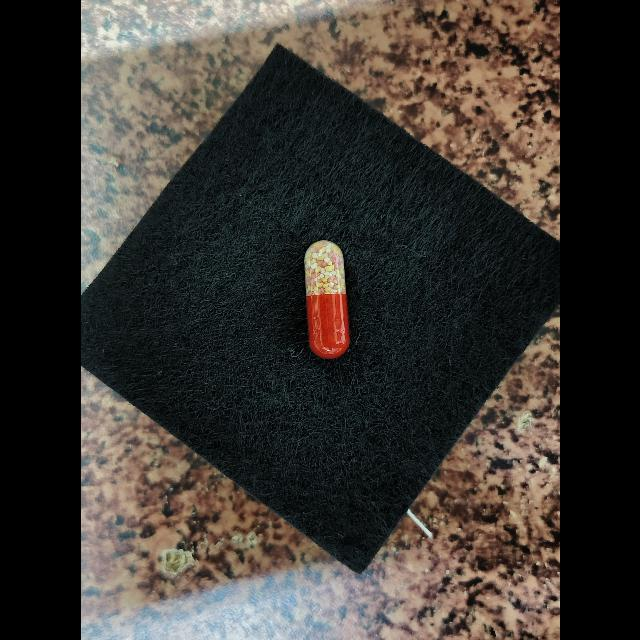Intact Capsule: (304, 240, 349, 359)
